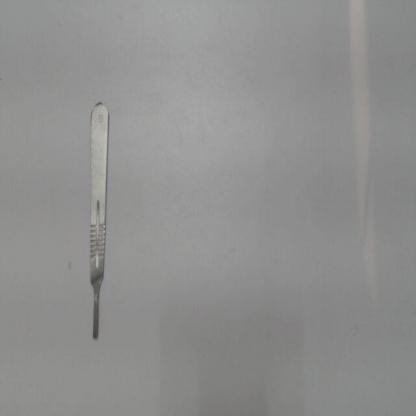No.4 BP Handle: (81, 93, 113, 352)
